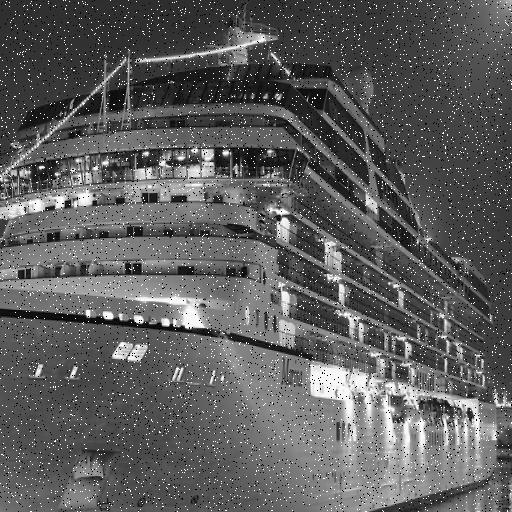cruises: (1, 1, 503, 512)
